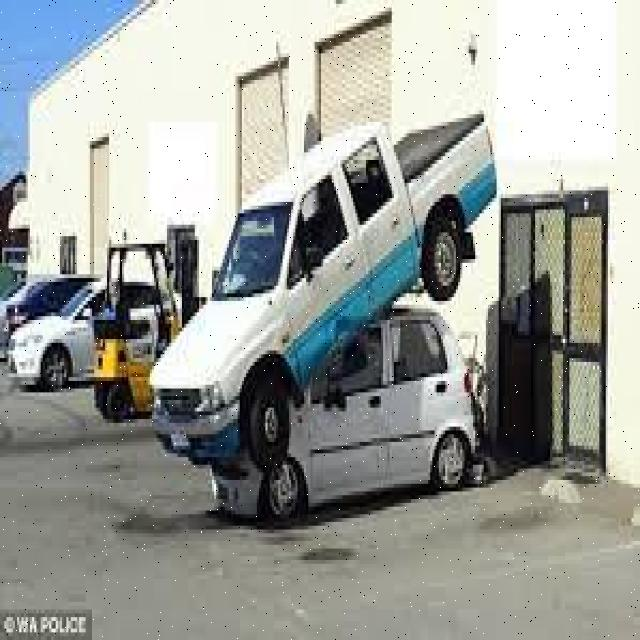severe: (141, 103, 503, 529)
